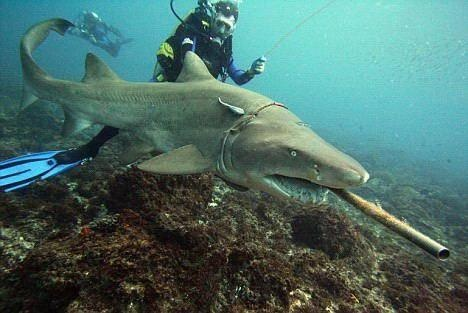fish: (19, 15, 370, 222)
